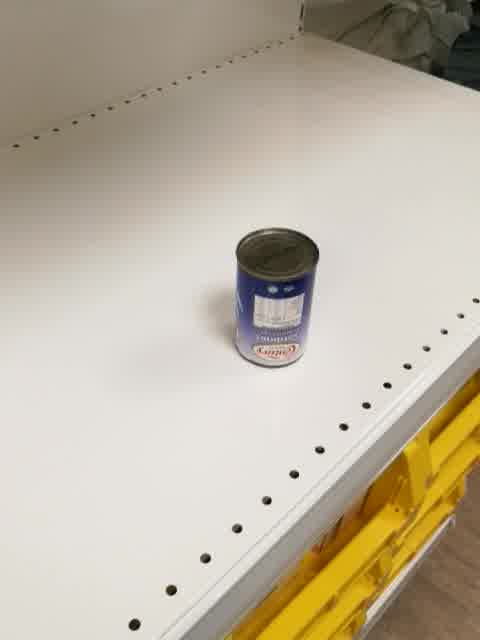sardine: (233, 228, 320, 370)
